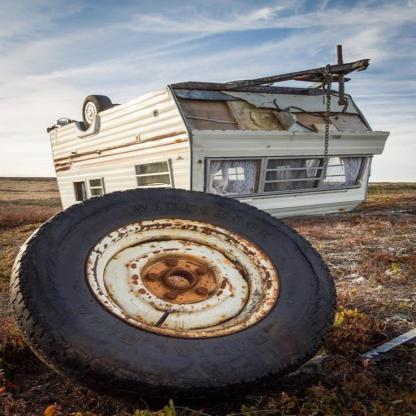Tire: (8, 186, 338, 402), (81, 95, 115, 130)
